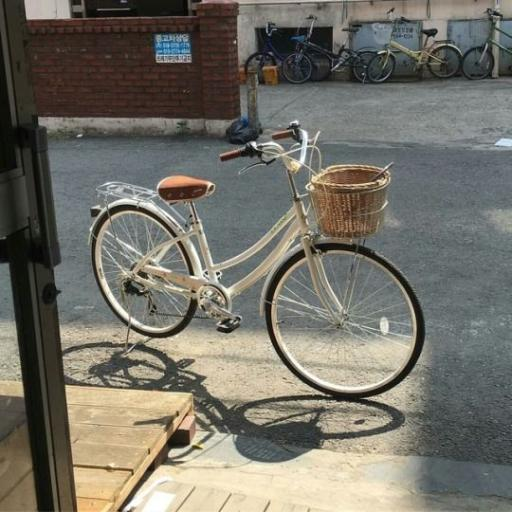bag: (91, 122, 425, 398), (367, 8, 462, 82), (282, 16, 380, 82), (461, 8, 512, 79)
